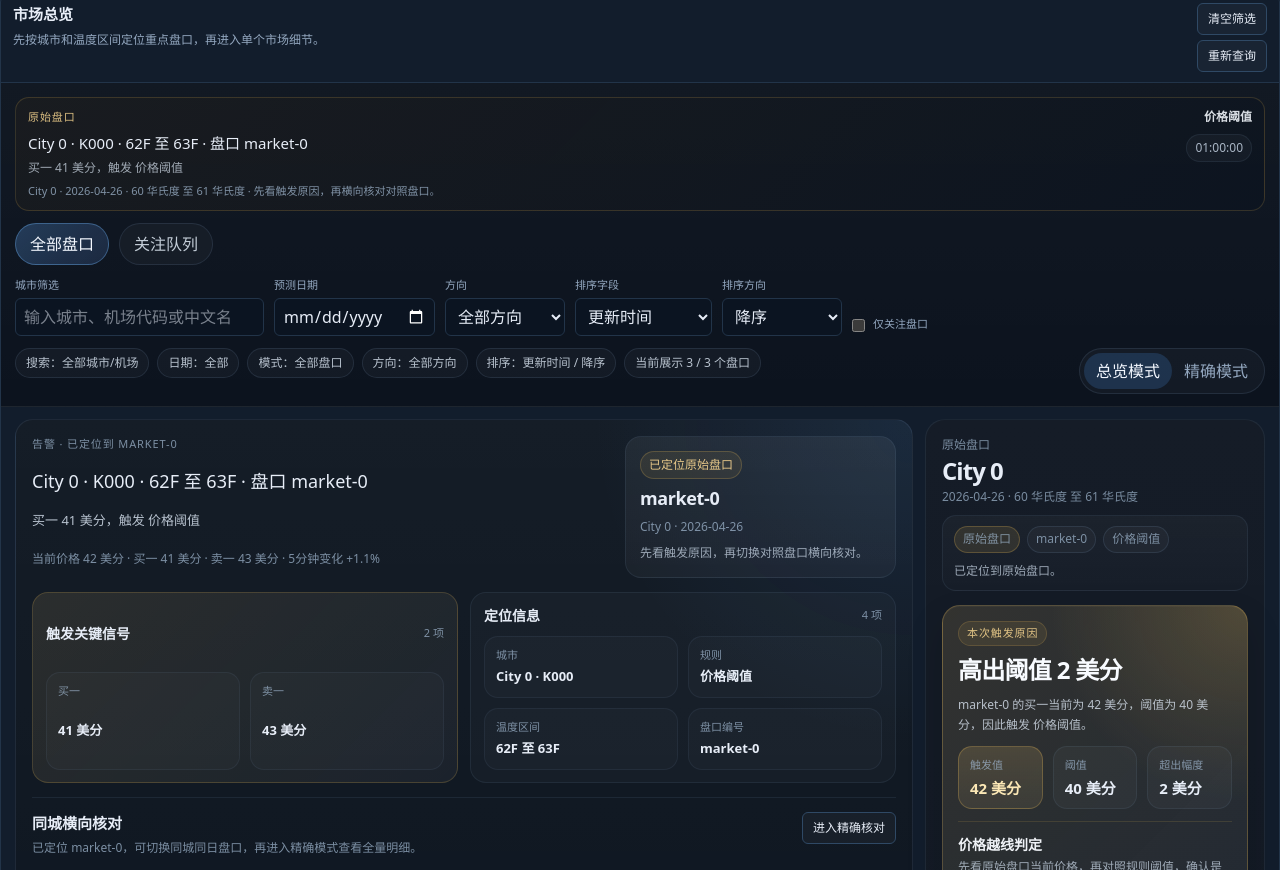
MarketExplorerView › maps price threshold alerts to the yesPrice focus column in precise mode
Step 1. Click the button with test id "market-alert-open-precise" → (849, 828), box x1=802 y1=812 x2=896 y2=844
(page scrolled)
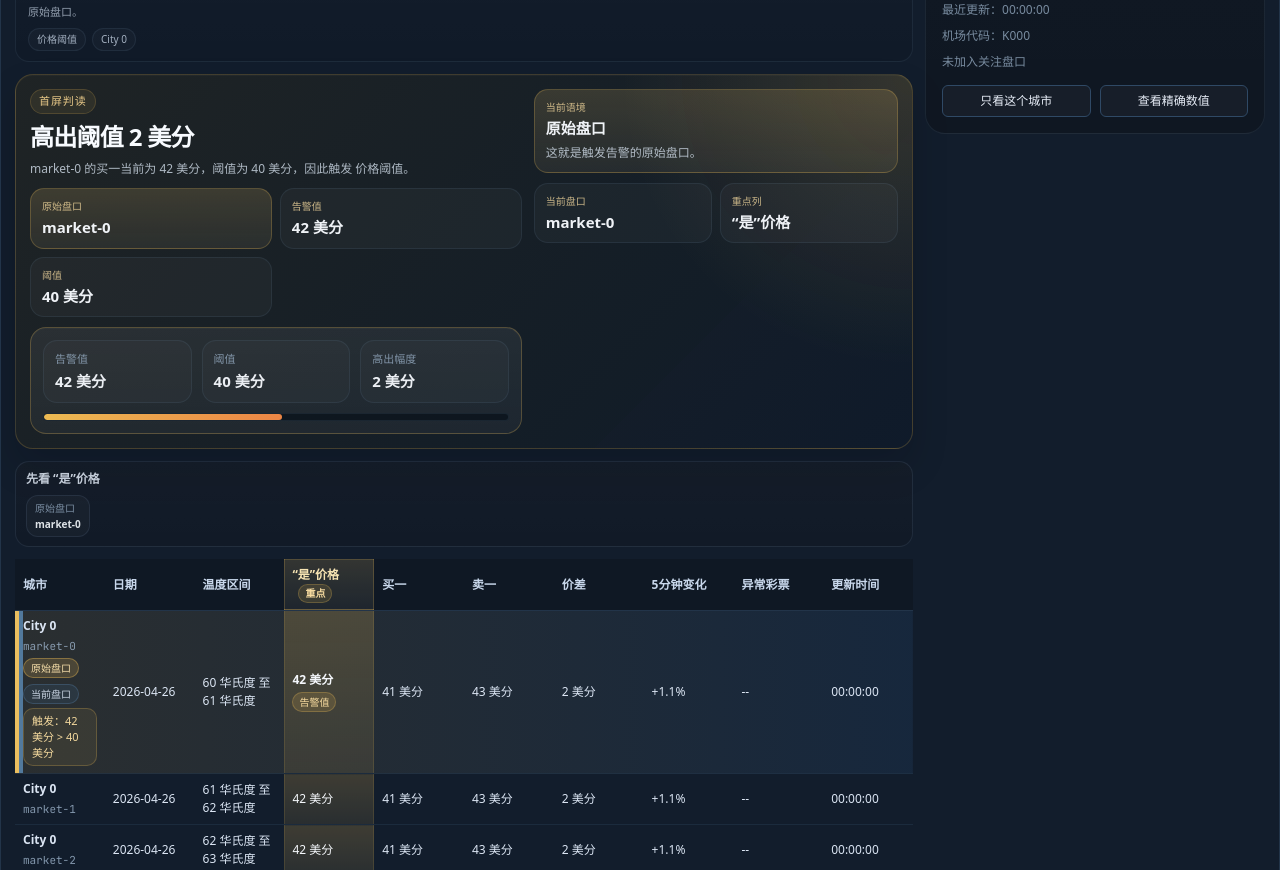
Expected: the element with test id "market-precision-guide" is shown, x1=15 y1=460 x2=913 y2=547
